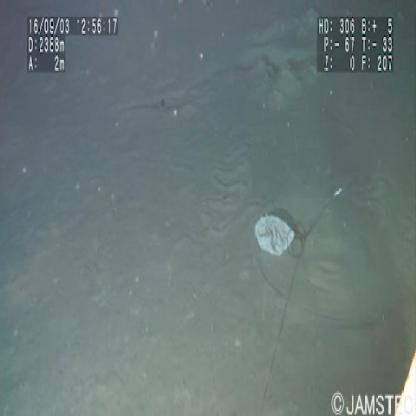Rác: (249, 208, 307, 260)
